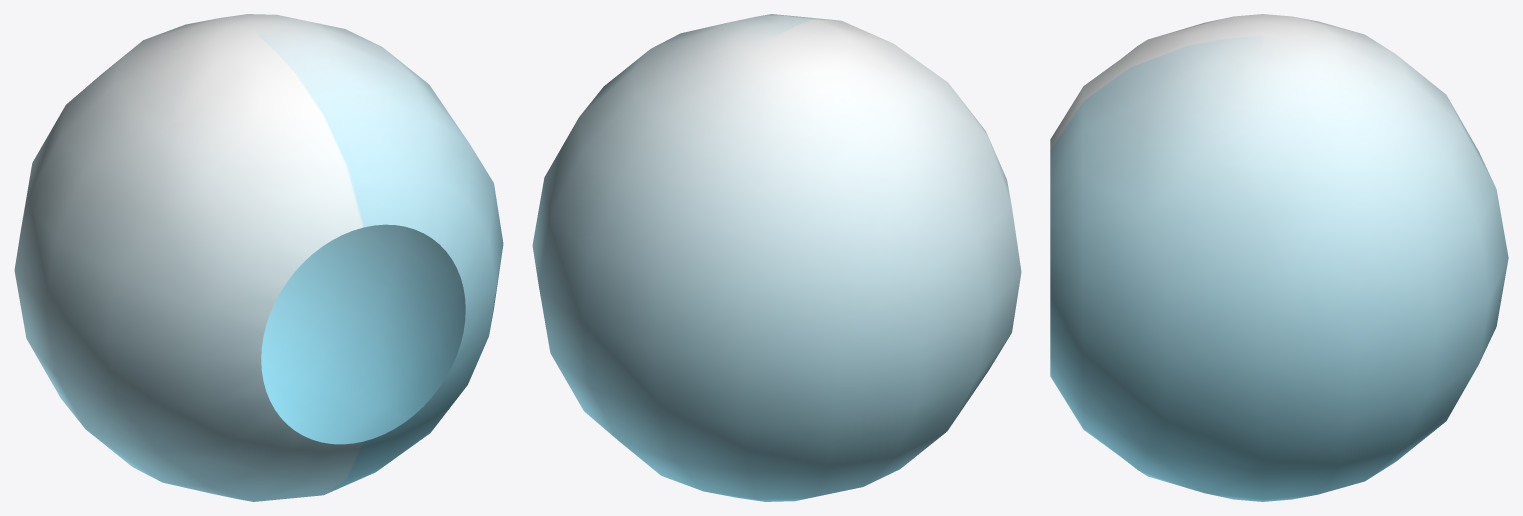
Rendered from InsidePortal_SkySphere.fbx.
3 views of the same model, side by side, from view 1: azimuth 30°, elevation 25°; view 2: azimuth 150°, elevation 25°; view 3: azimuth 270°, elevation 25° (orthographic).
Parts seen in each view (by area): view 1: InsidePortal_SkySphere; view 2: InsidePortal_SkySphere; view 3: InsidePortal_SkySphere.
Boxes of the visible parts, left/top/right/bottom form: InsidePortal_SkySphere: left=14, top=14, right=503, bottom=501; InsidePortal_SkySphere: left=532, top=14, right=1021, bottom=501; InsidePortal_SkySphere: left=1050, top=14, right=1508, bottom=501.
Bounding box in the file's own units: 11.27 × 11.27 × 10.51.
1 material, 1 textured.
